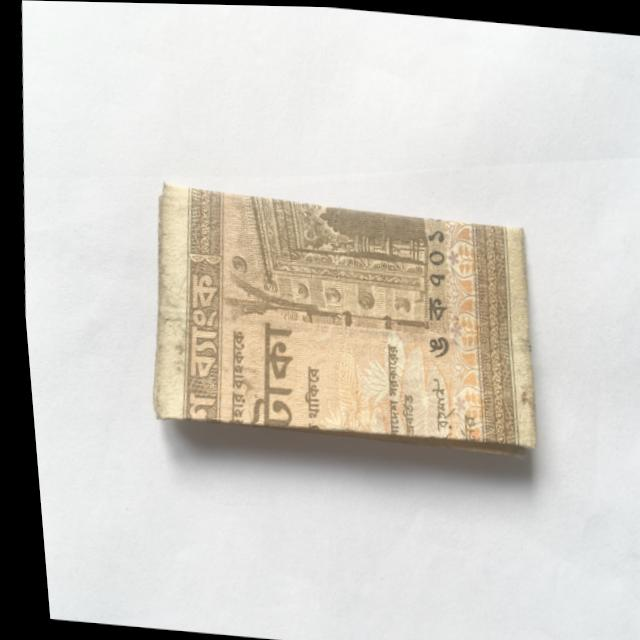Taka: (128, 172, 552, 463)
